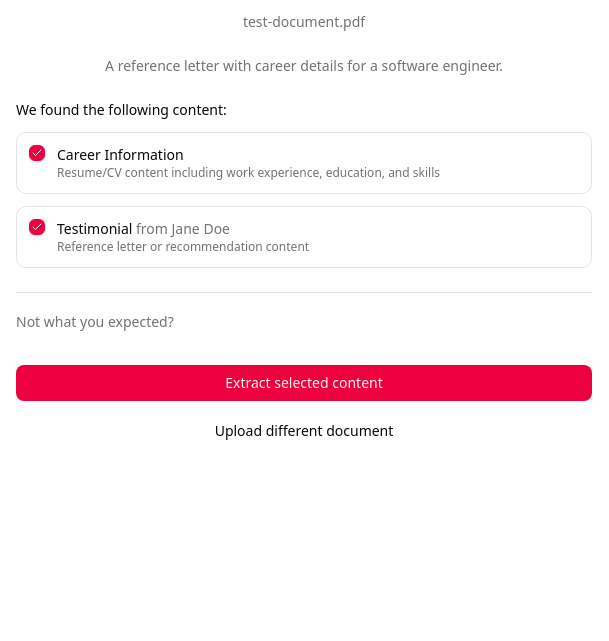
Test: DetectionResults › Correction UI › applies 'just a resume' correction
Click the button "Not what you expected?".
click(95, 322)  # box [16,312,174,332]
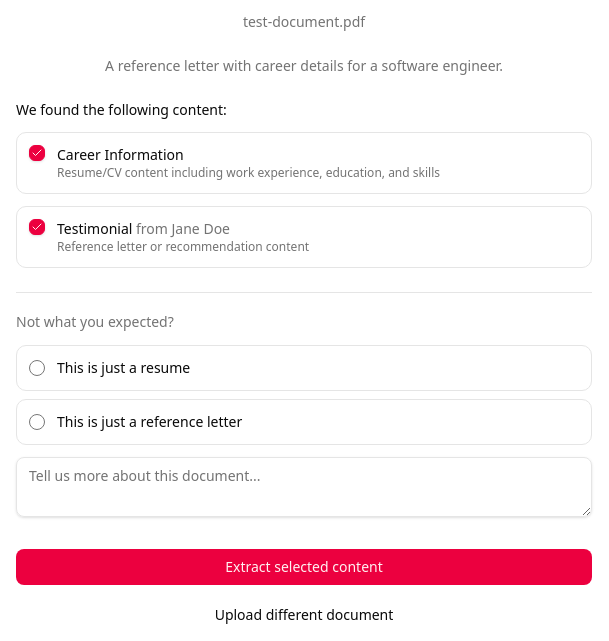
Click the radio button labelled "This is just a resume".
click(37, 368)  # box [29,360,45,376]
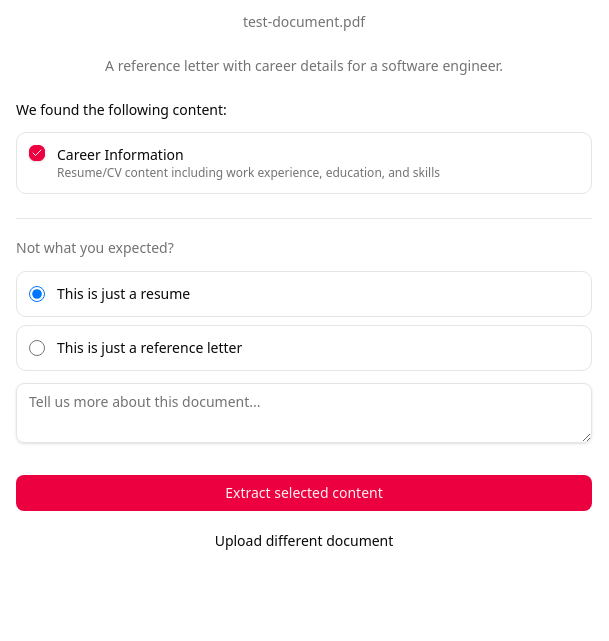
Check: the checkbox labelled "Testimonial" is gone
